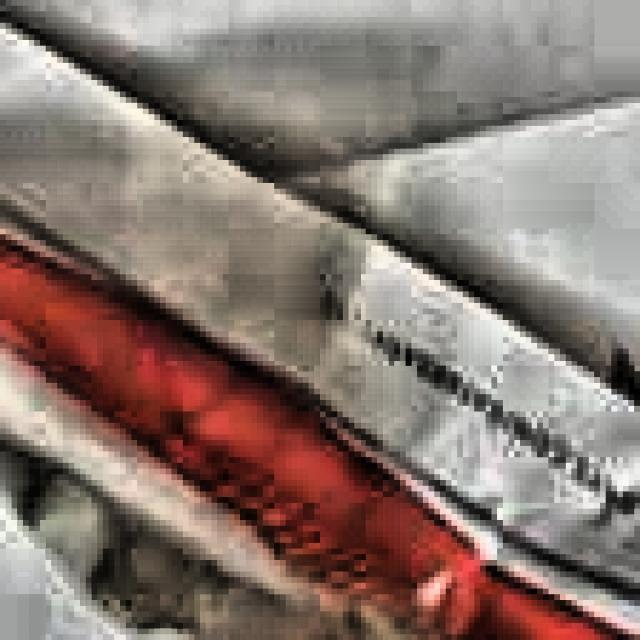paper: (0, 11, 640, 640)
